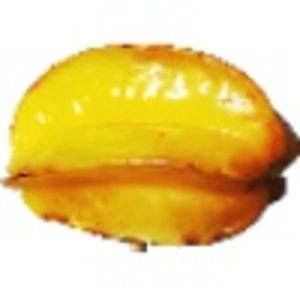carambola: (1, 41, 300, 255)
